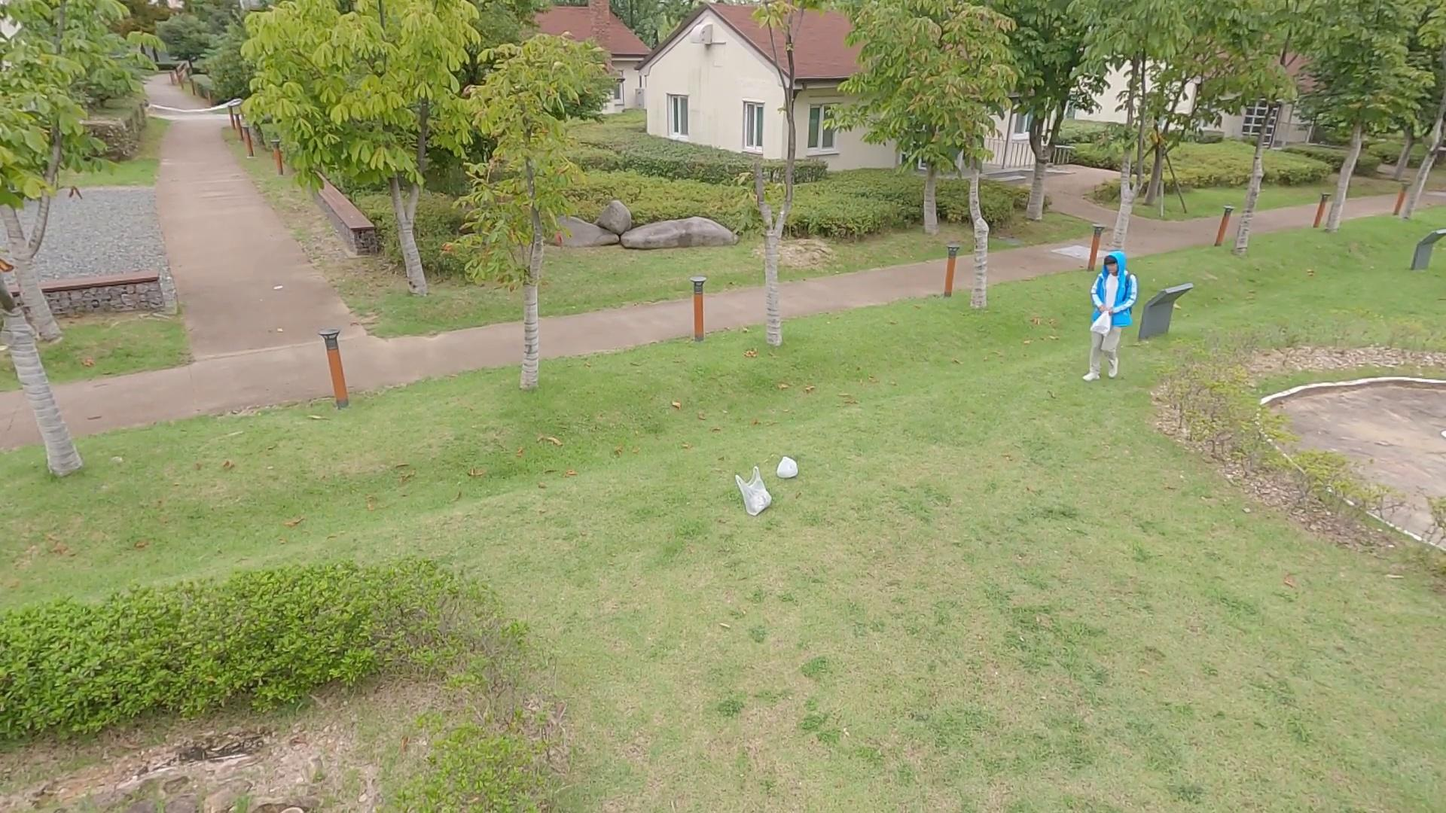person: (1084, 250, 1139, 385)
trash: (734, 465, 773, 517), (1089, 310, 1112, 336), (778, 455, 799, 481)
